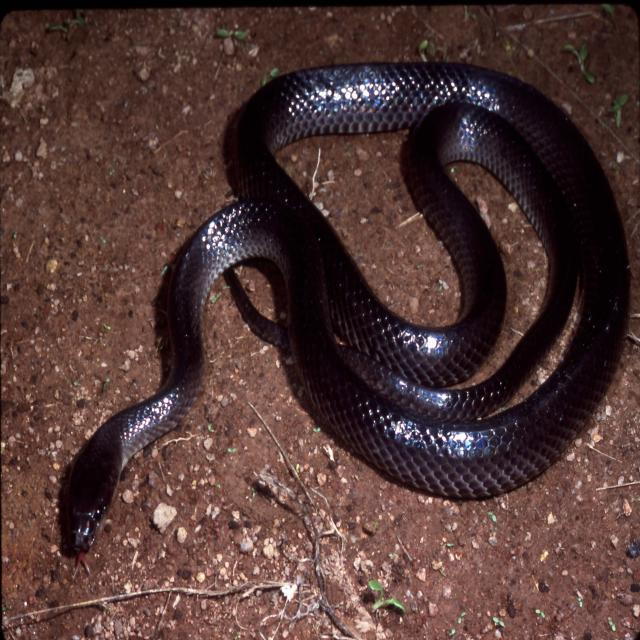Snake: (41, 34, 640, 576)
